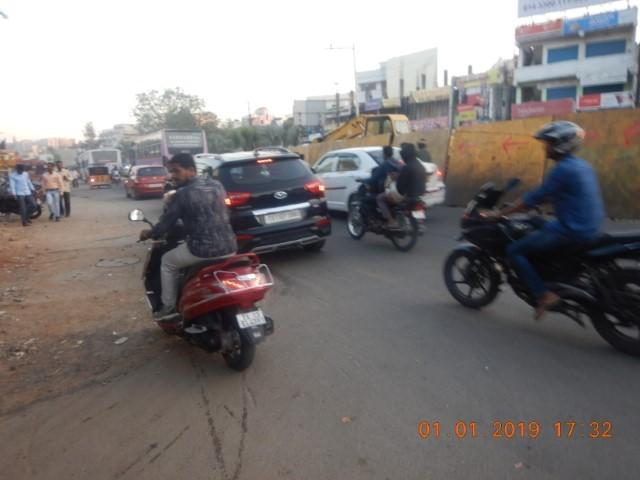plate: (234, 309, 268, 329)
